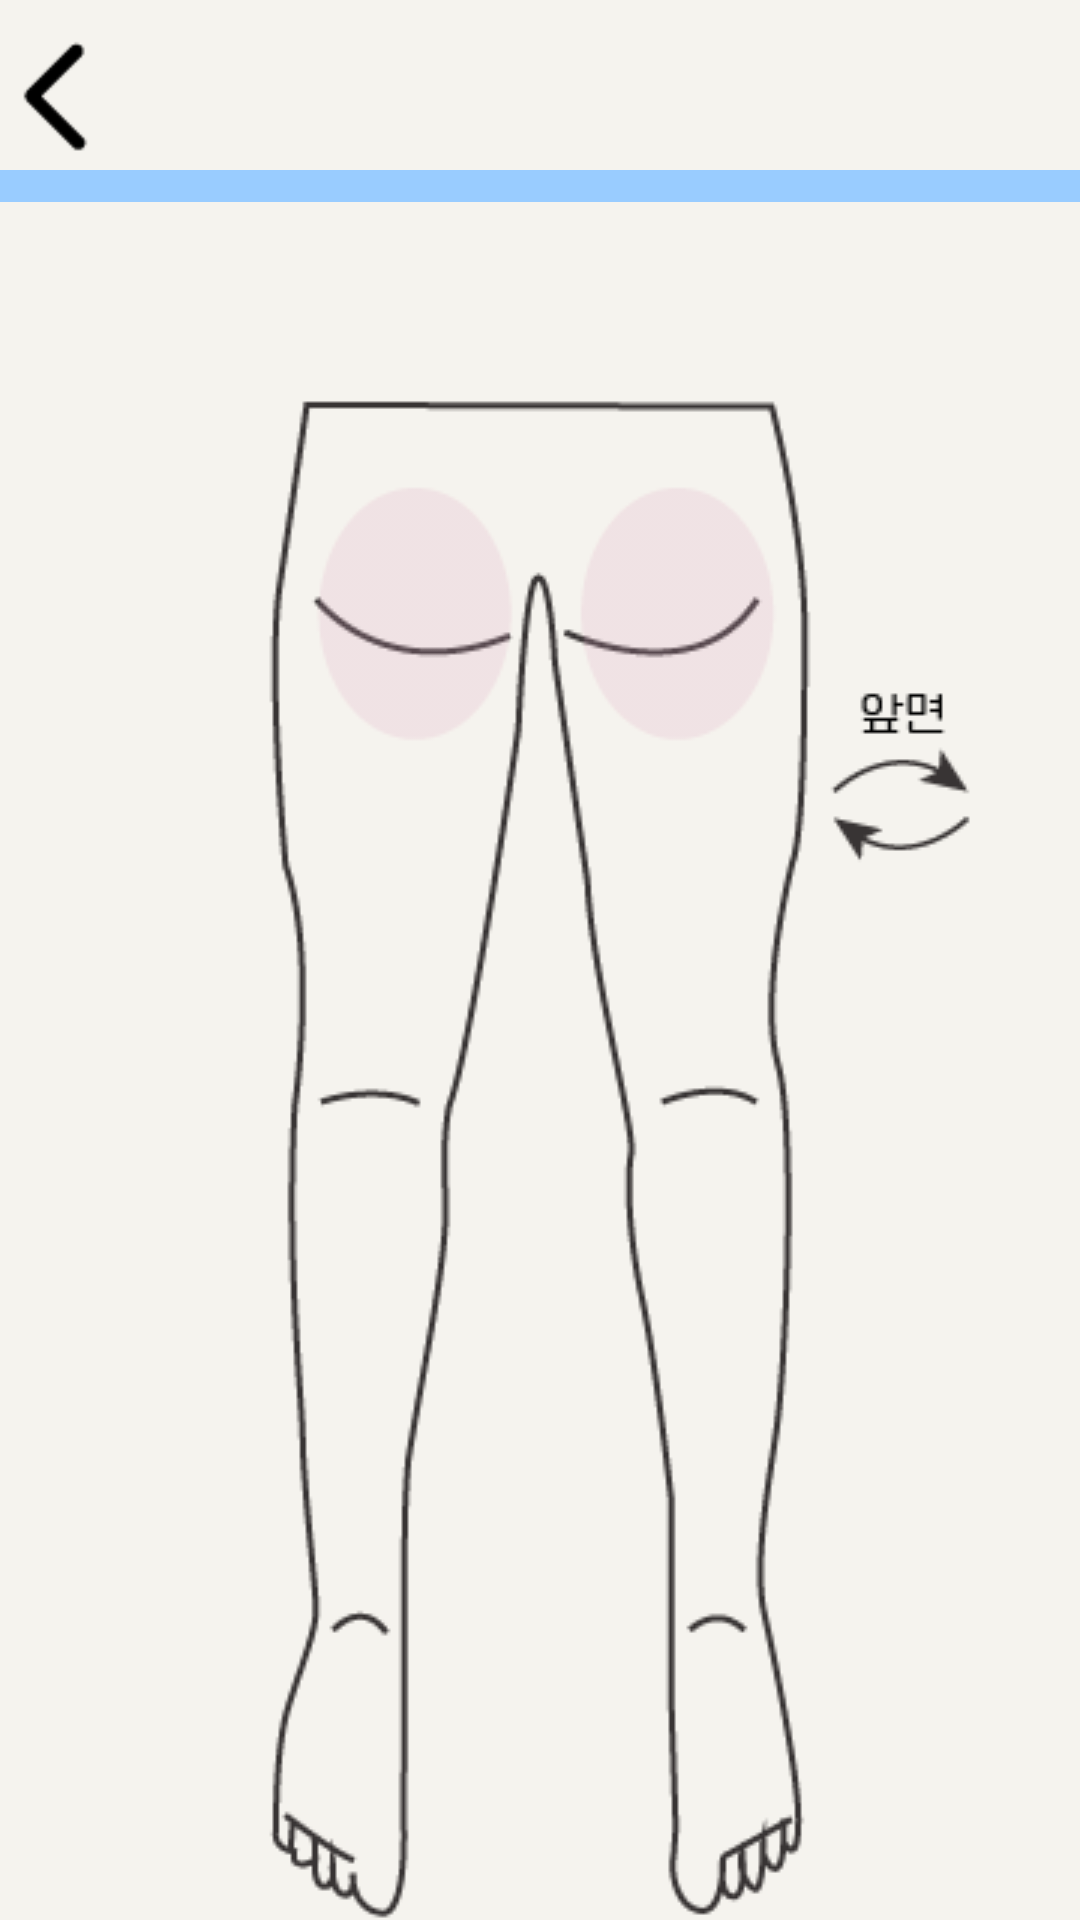

Locate icon controls on the screen. Image size 1080px×1920px, boxes as bbox=(x1, y1, x2, y2).
back: bbox=(23, 42, 87, 151)
